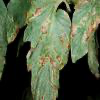Potato leaf early blight: (24, 1, 73, 100), (70, 1, 100, 61), (6, 1, 25, 45), (89, 35, 100, 78)
